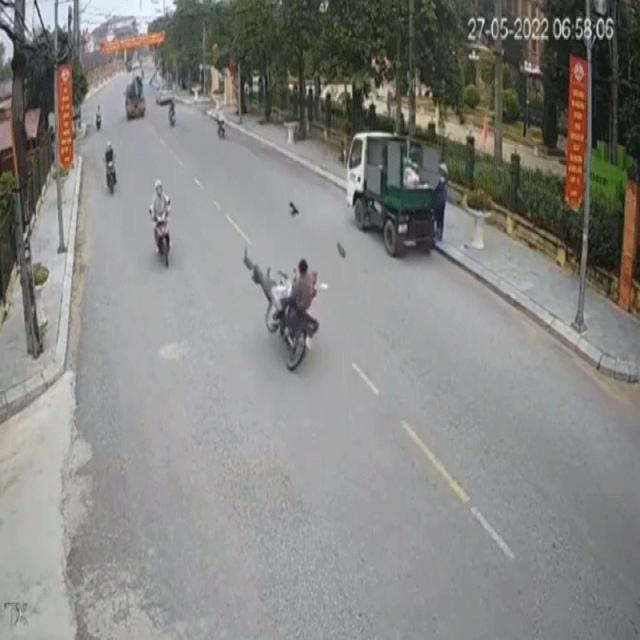single accident: (239, 239, 325, 389)
